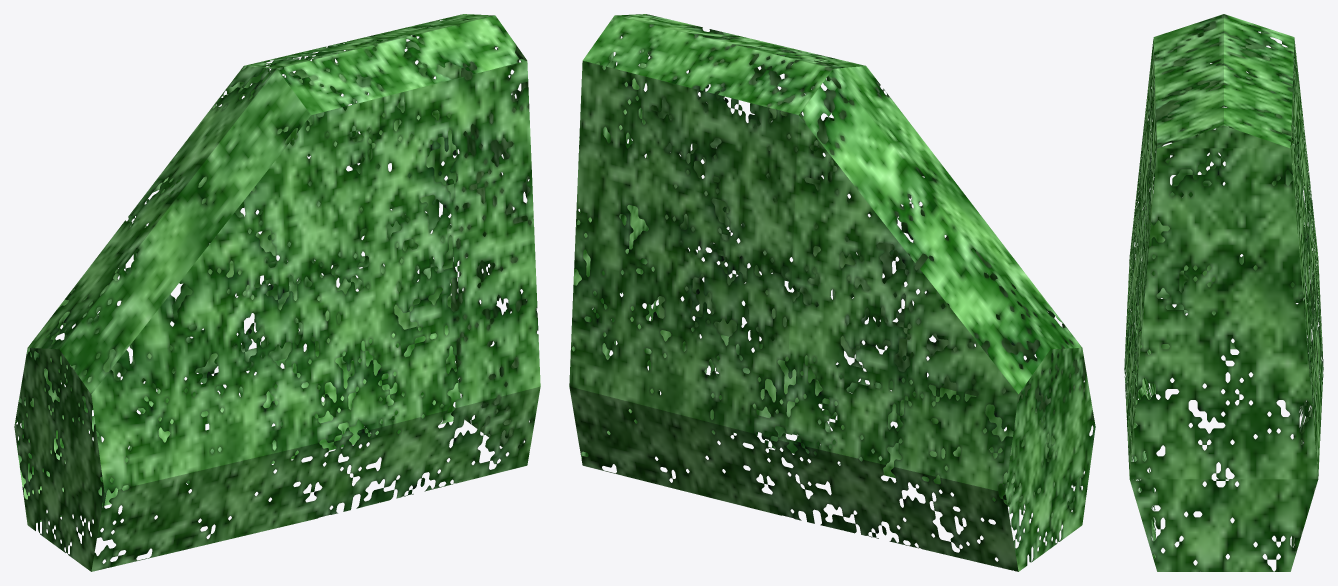
The model's file is bush_connector_spring.fbx.
3 views of the same model, side by side, from view 1: azimuth 30°, elevation 25°; view 2: azimuth 150°, elevation 25°; view 3: azimuth 270°, elevation 25° (orthographic). The views are drawn at different scales.
Parts seen in each view (by area): view 1: bush_connector_spring; view 2: bush_connector_spring; view 3: bush_connector_spring.
Boxes of the visible parts, box(x1,y1,x2,y2) form: bush_connector_spring: box(14, 14, 540, 571); bush_connector_spring: box(569, 14, 1095, 571); bush_connector_spring: box(1124, 14, 1323, 571).
Bounding box in the file's own units: 201 × 188 × 75.92.
Materials: 1 (1 with a texture image).
